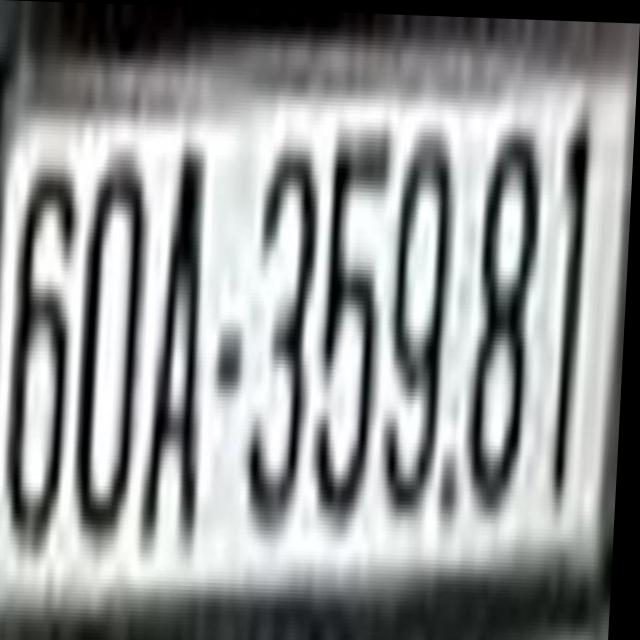0: (76, 150, 153, 544)
1: (541, 102, 601, 518)
3: (246, 140, 326, 553)
5: (316, 118, 393, 539)
6: (5, 144, 83, 569)
8: (465, 103, 547, 536)
9: (380, 120, 457, 529)
A: (144, 137, 220, 550)
